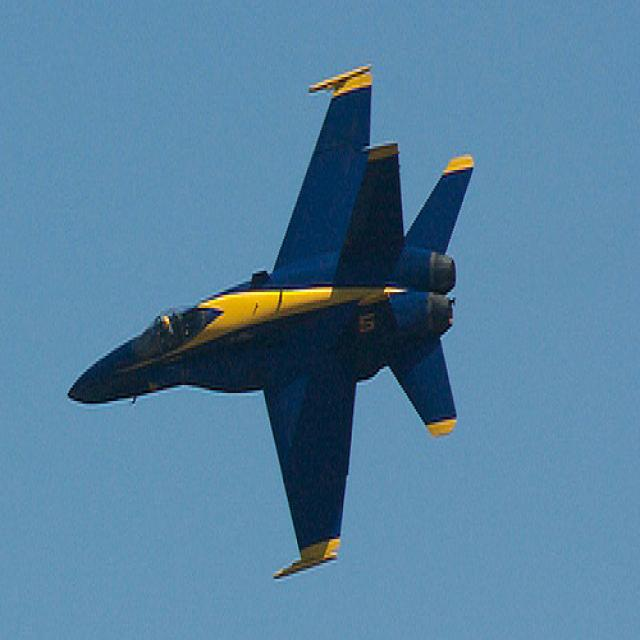aeroplane: (62, 54, 481, 583)
